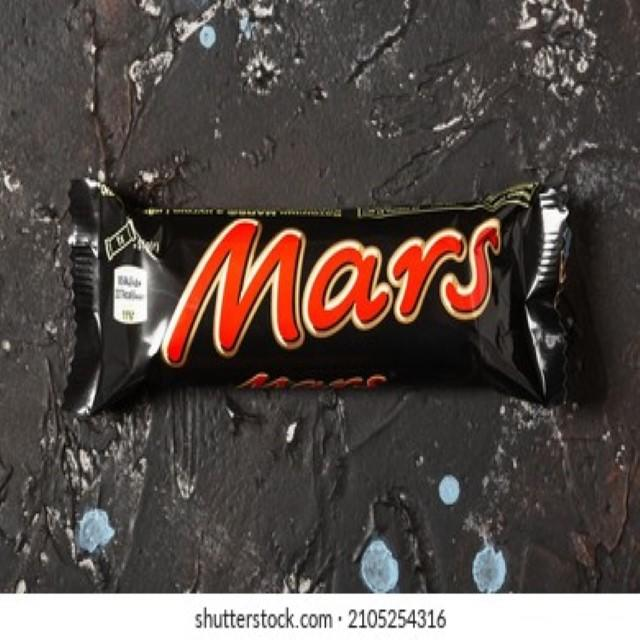mars_chocolate: (70, 194, 562, 398)
